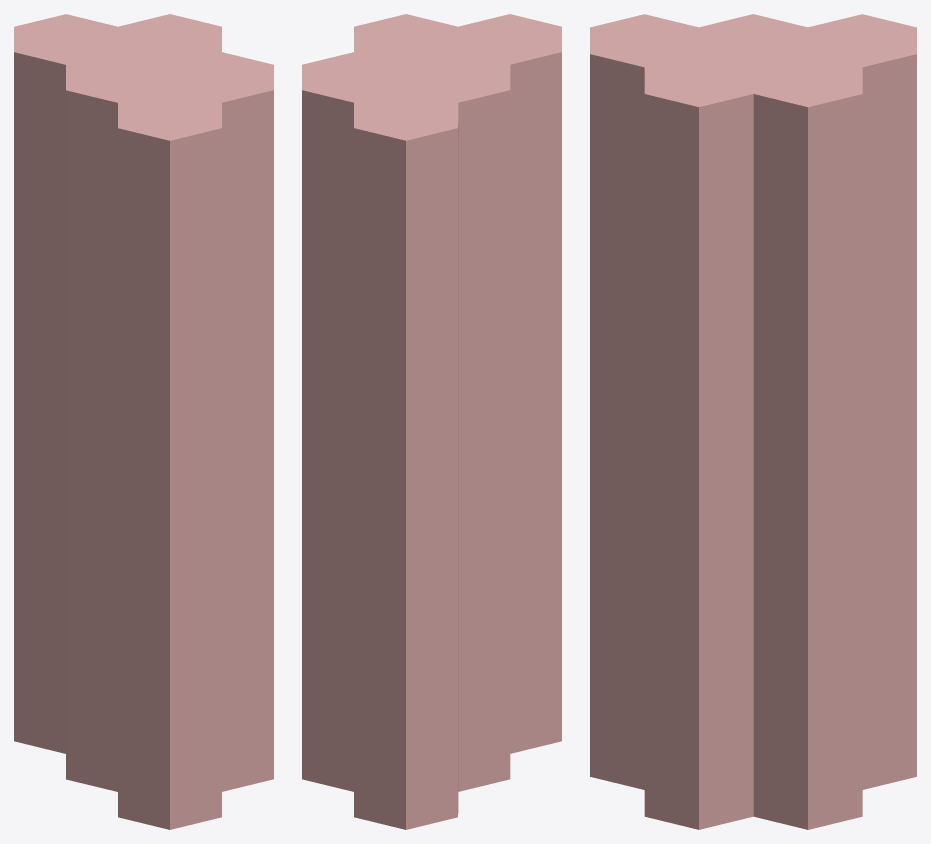
The model's file is level04_risingBridgeLeft01.fbx.
3 renders of one model, left to right at view 1: azimuth 30°, elevation 25°; view 2: azimuth 150°, elevation 25°; view 3: azimuth 270°, elevation 25°, orthographic. The views are drawn at different scales.
Visible parts, largest first — view 1: risingBridgeLeft01; view 2: risingBridgeLeft01; view 3: risingBridgeLeft01.
Boxes of the visible parts, x1=… form: risingBridgeLeft01: x1=14, y1=14, x2=273, y2=829; risingBridgeLeft01: x1=302, y1=14, x2=561, y2=829; risingBridgeLeft01: x1=590, y1=14, x2=916, y2=829.
Size of the model in its own units: 415 by 1498 by 614.
